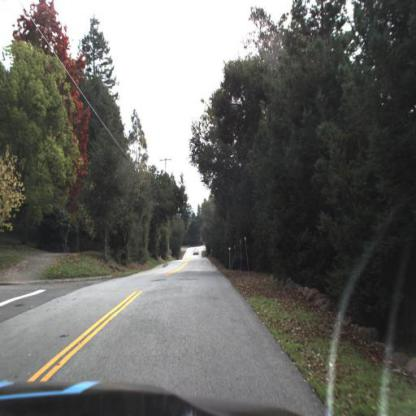car: (192, 244, 202, 263), (192, 243, 202, 261)
